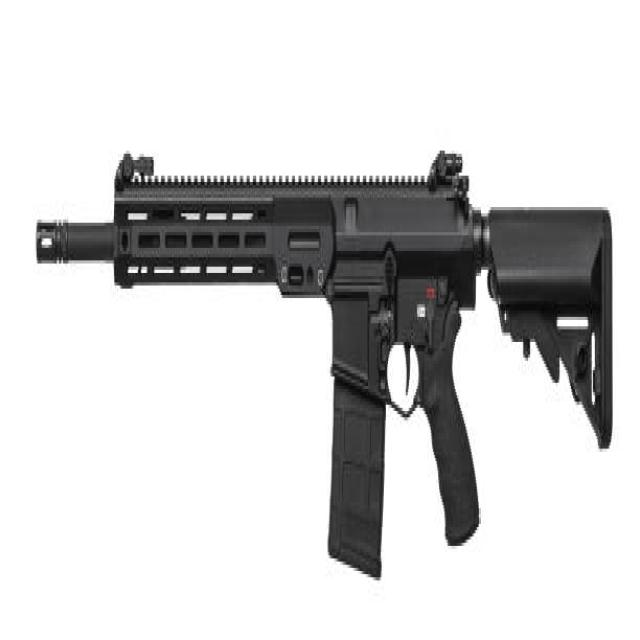rifle: (30, 117, 627, 612)
